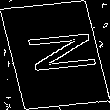N_E: (12, 31, 98, 79)
